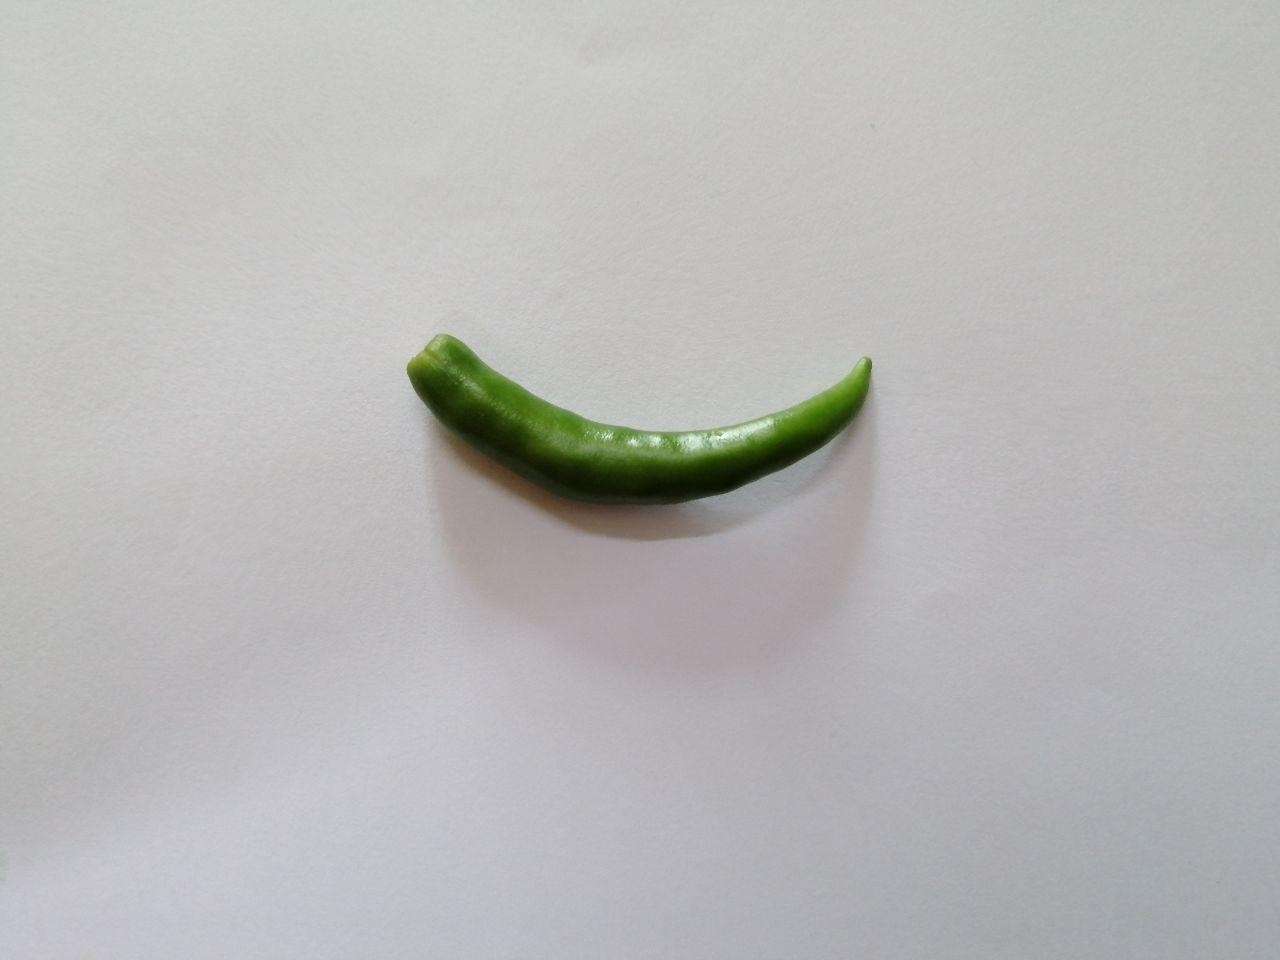lada hijau: (402, 317, 903, 518)
